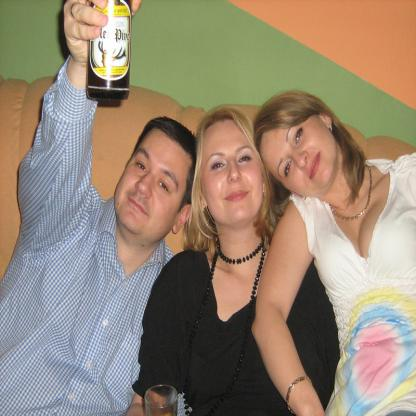drinking: (86, 0, 132, 101)
